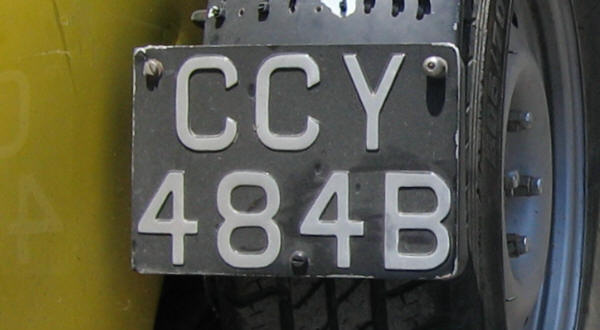license_plate: (131, 44, 463, 280)
